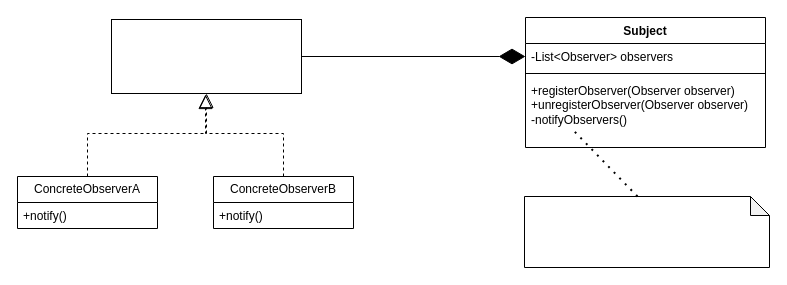
The diagram is 787 pixels wide and 285 high, and some of its shapes have lost their labels. Here are the shapes that lost their labels. From the top down, the centre of each, then its label:
At point 206,56: "<<Interface>> Observer +notify()".
At point 647,232: "for(Observer observer: observers){ observer.notify(); }".
